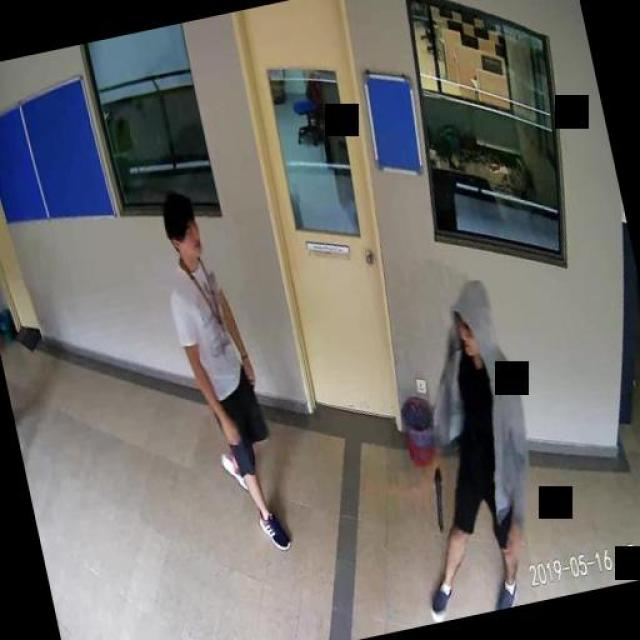gun: (423, 465, 452, 531)
